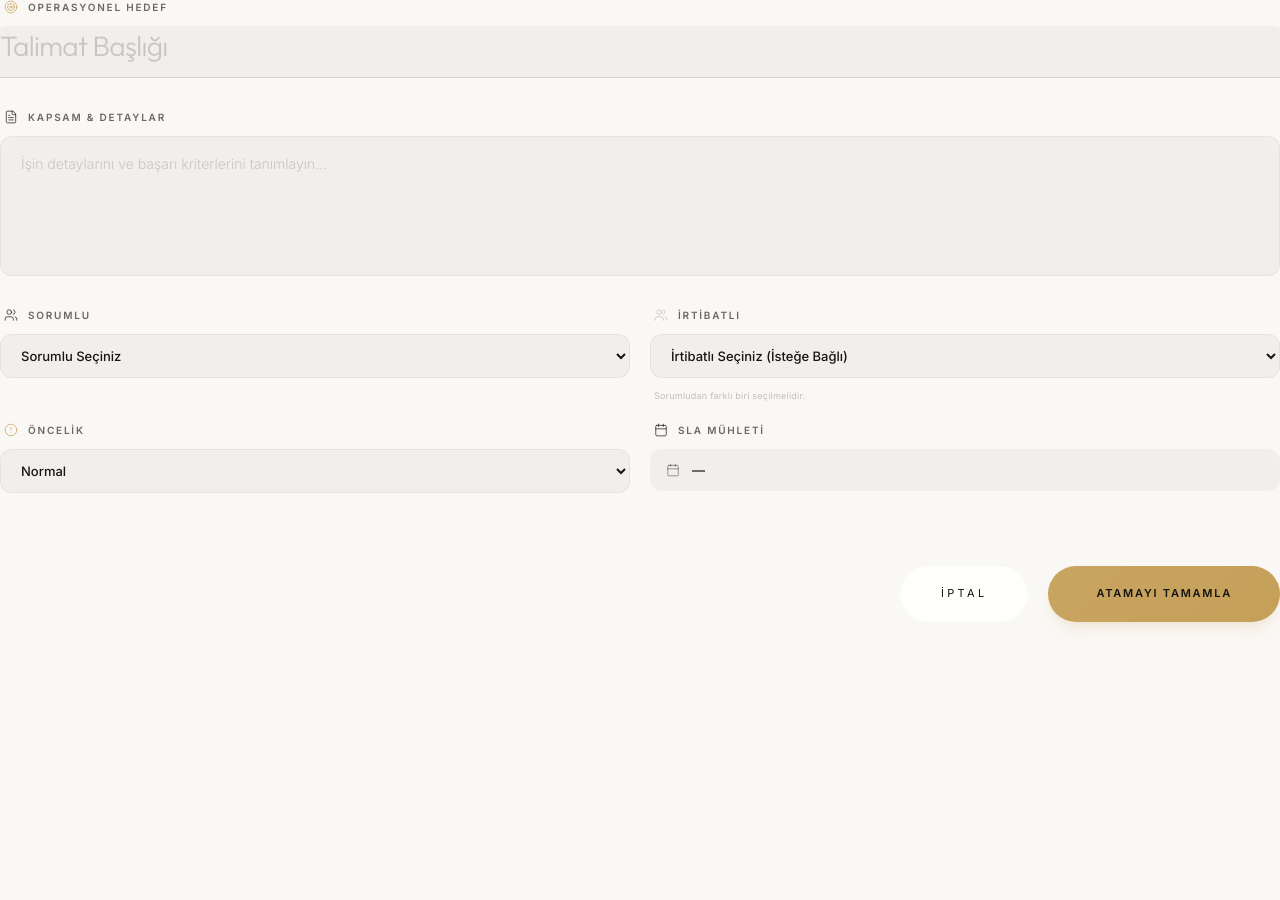
Test case: TaskFormModal › departman türetimi (P0-1) › sorumlunun departmanı yoksa (Admin'e atanan görev) birim alanı görünür ve zorunlu olur
The width and height of the screenshot is (1280, 900).
Type "Test Talimatı" into the field with placeholder "Talimat Başlığı".
click(640, 52); type("Test Talimatı")  # box x1=0 y1=26 x2=1279 y2=78
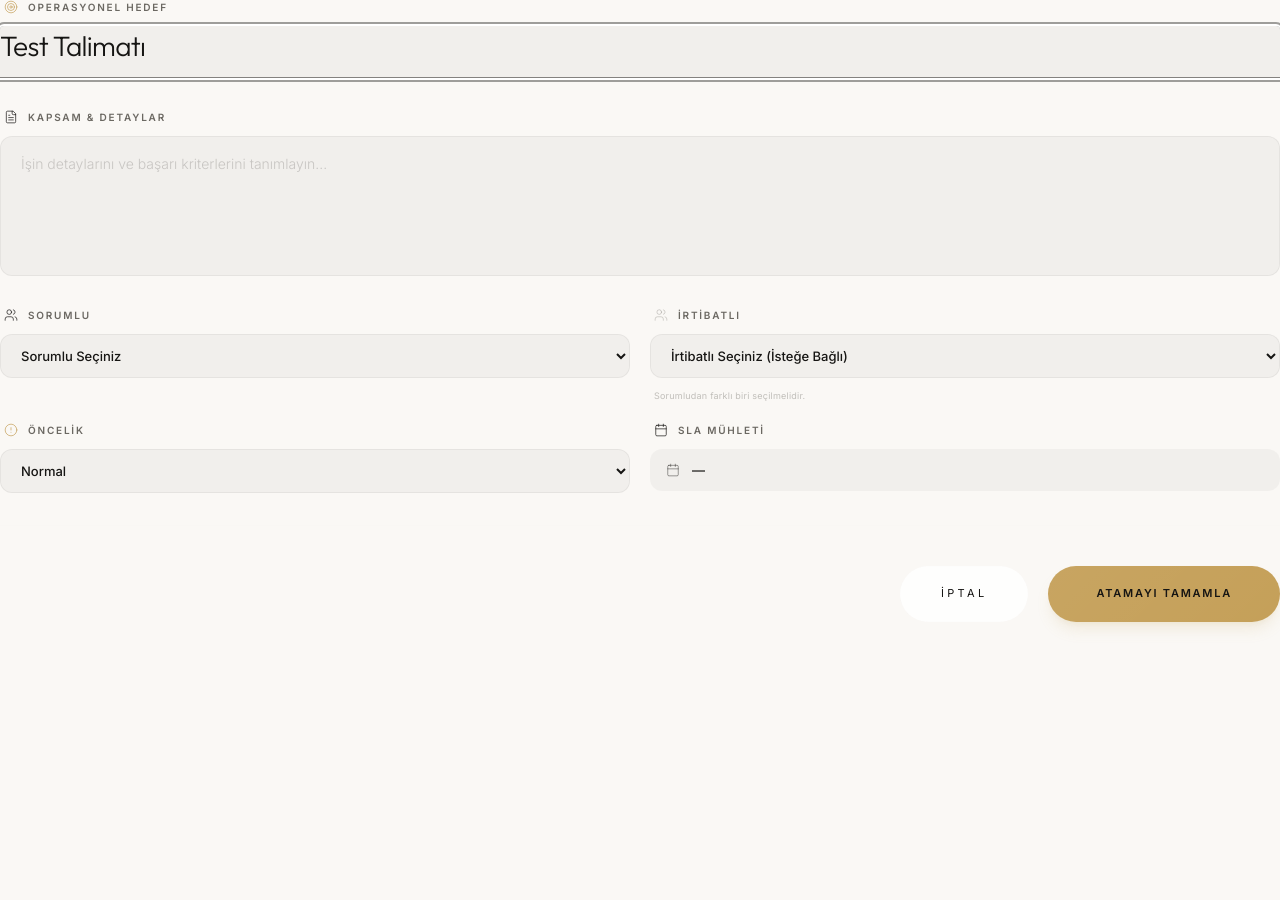
Type "Detaylı açıklama" into the text box with placeholder "İşin detaylarını ve başarı kriterlerini tanımlayın...".
click(640, 206); type("Detaylı açıklama")  # box x1=0 y1=136 x2=1279 y2=276
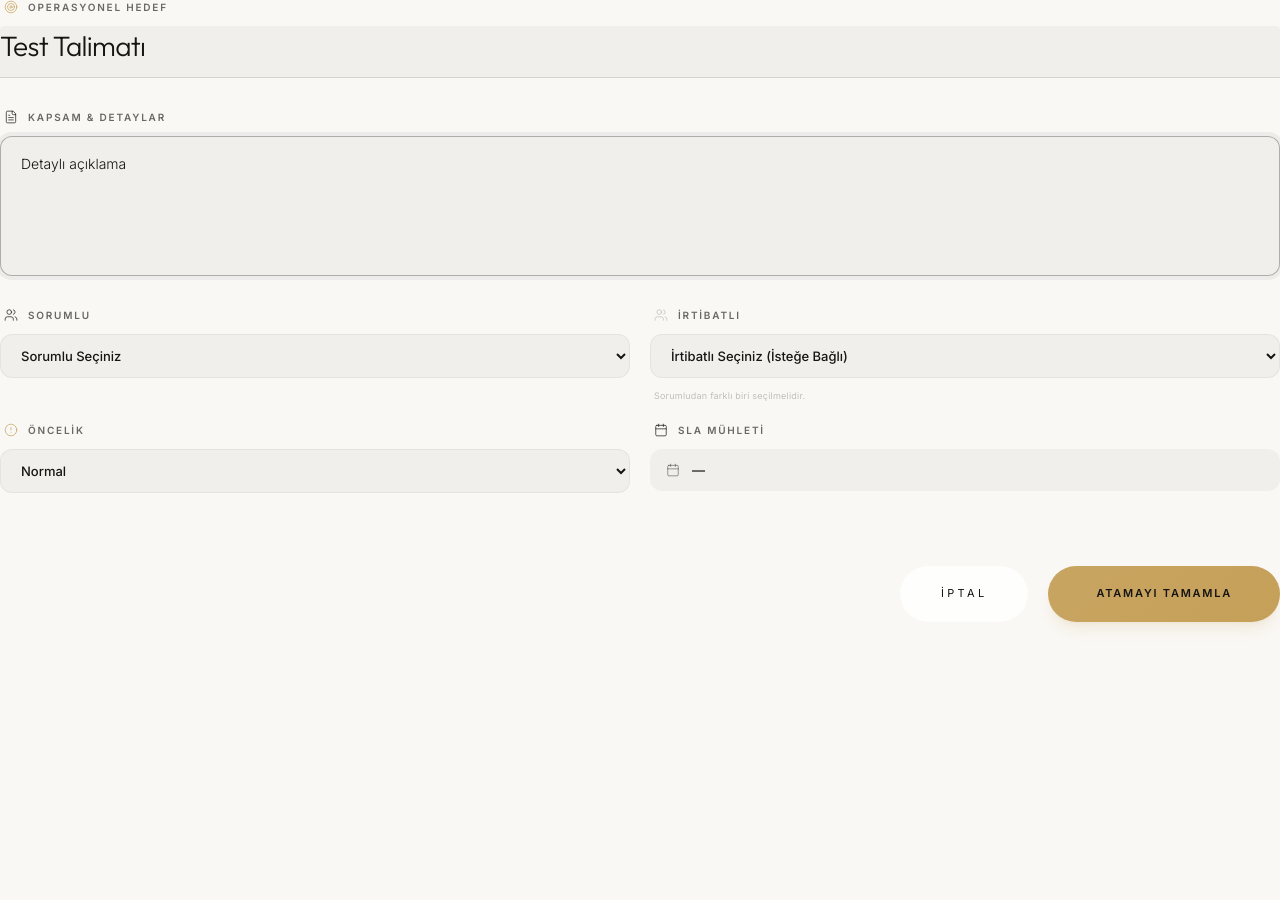
Select "Müftü Bey" in the dropdown labelled "Sorumlu" at (315, 356), box x1=0 y1=334 x2=630 y2=378
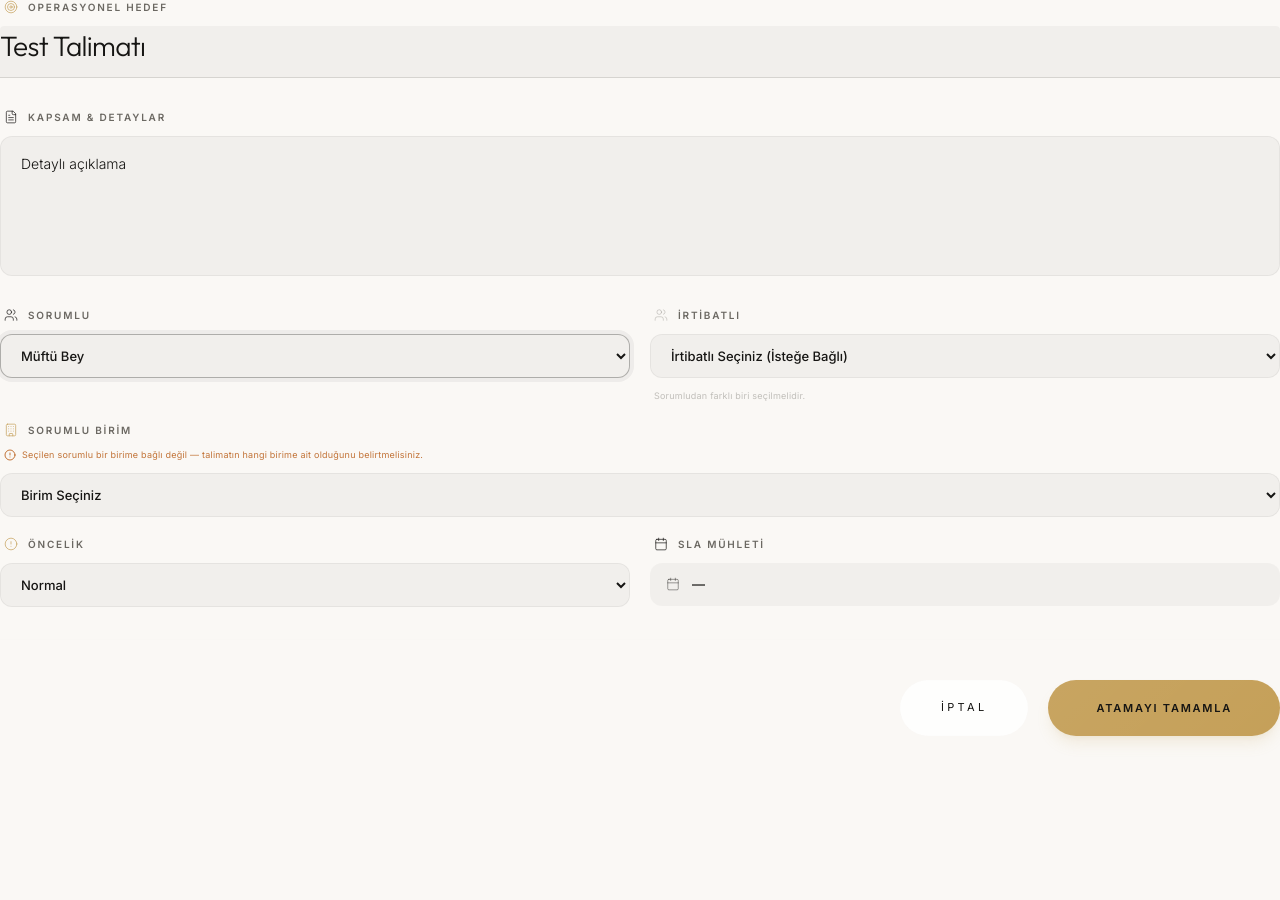
Click the button named "SLA mühleti".
click(673, 584)  # box x1=650 y1=563 x2=1279 y2=606
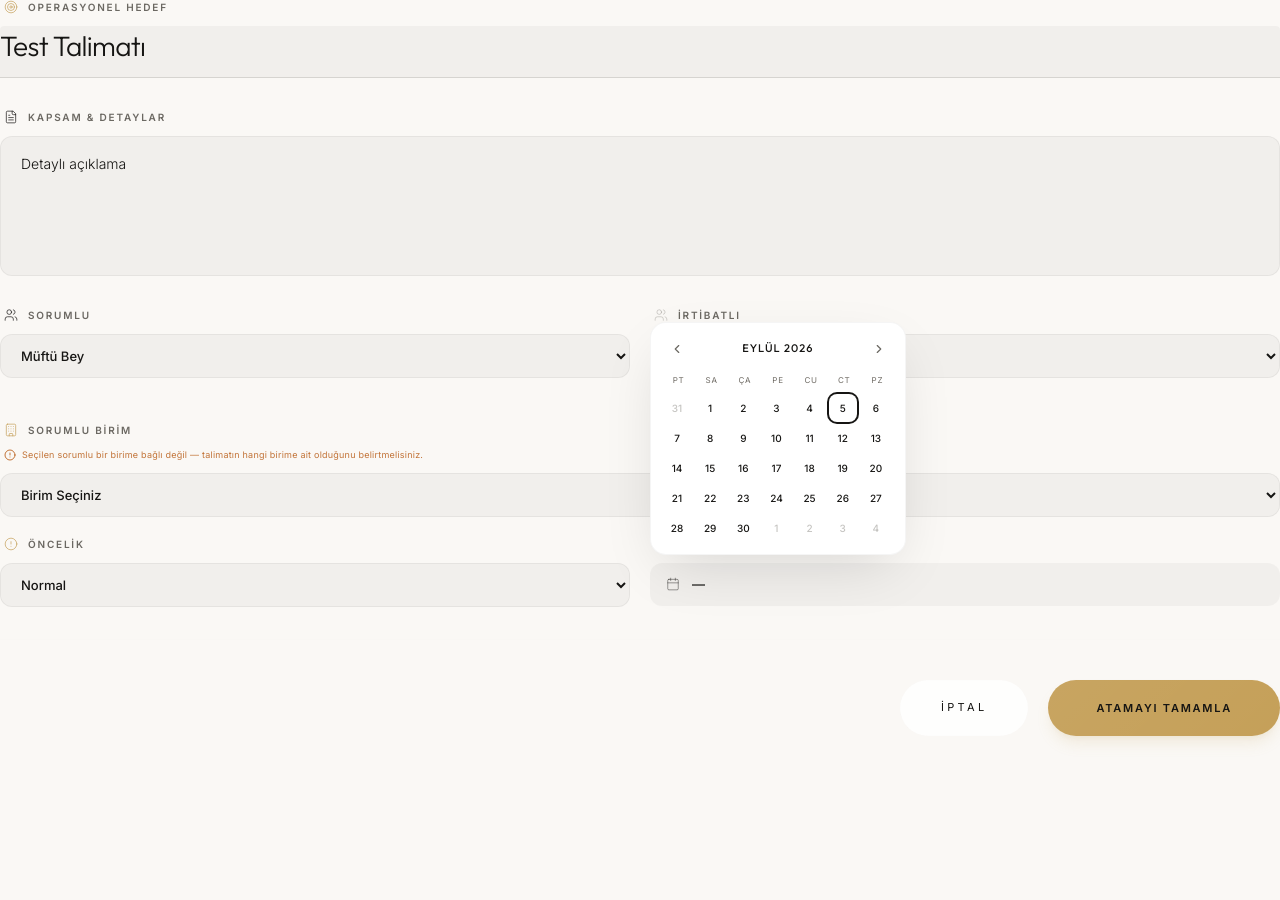
Click the button "5".
click(843, 408)  # box x1=829 y1=394 x2=857 y2=422
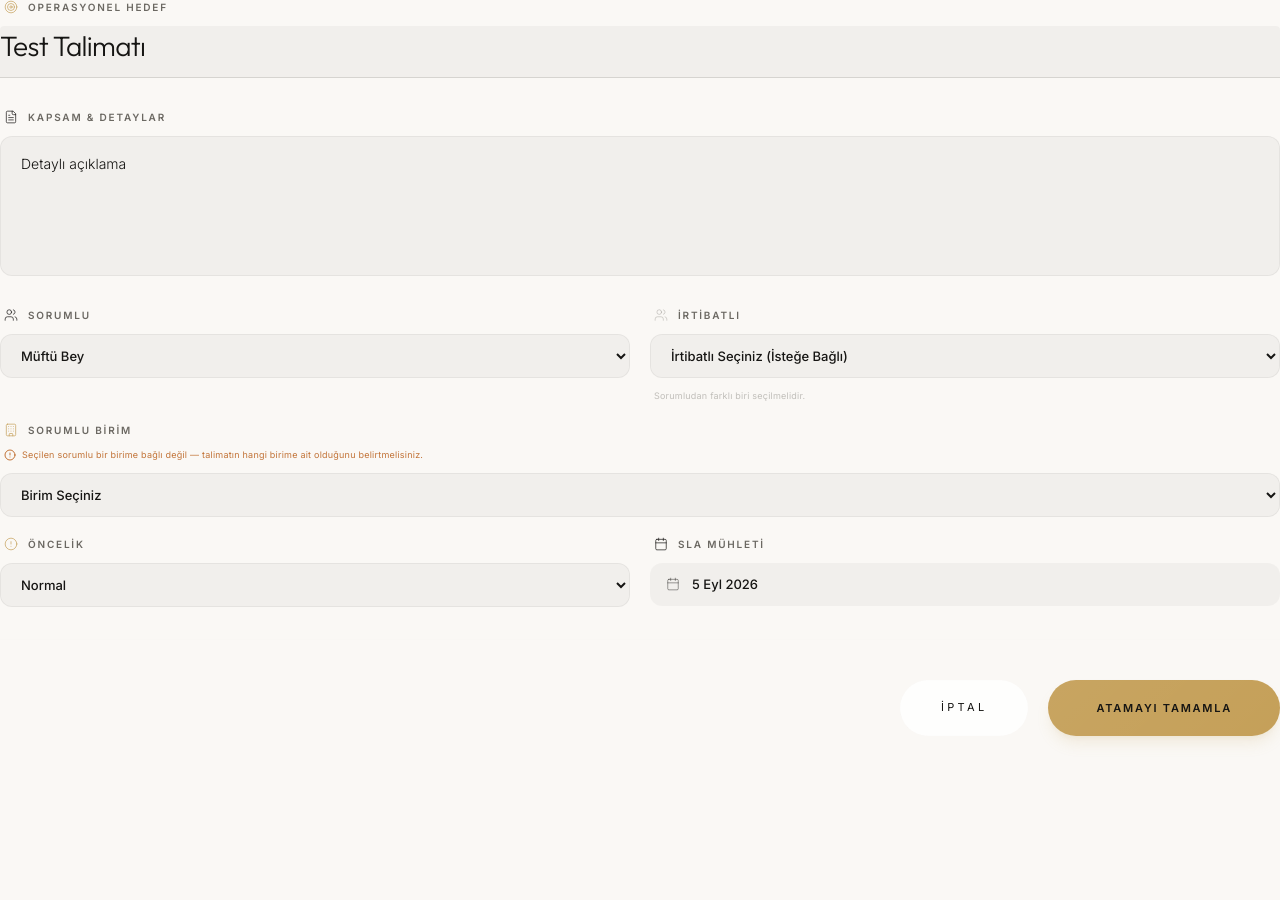
Click the button "ATAMAYI TAMAMLA".
click(1164, 708)  # box x1=1048 y1=680 x2=1279 y2=736
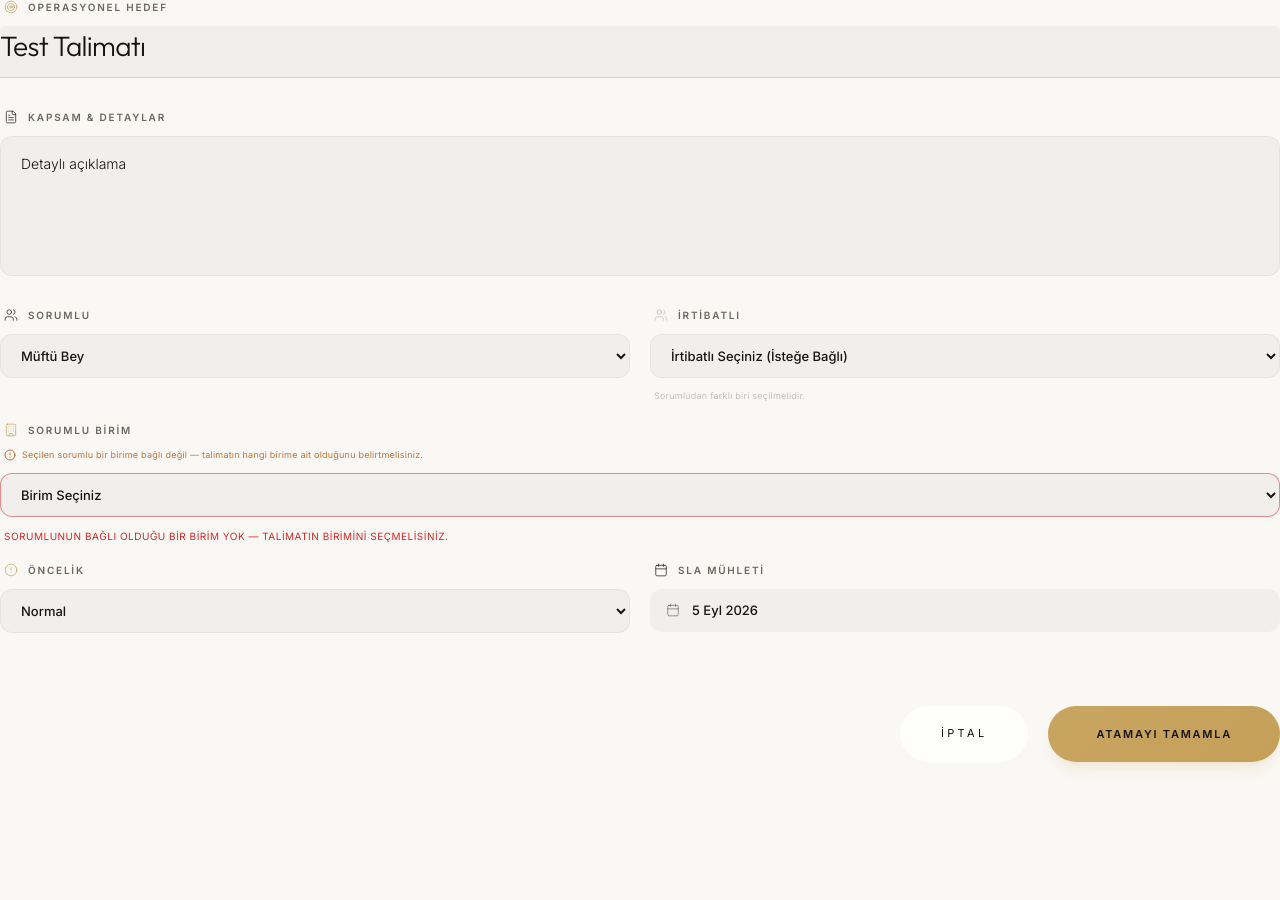
Now the dropdown labelled "Sorumlu Birim" is shown, box x1=0 y1=473 x2=1279 y2=517
Now the text "talimatın birimini seçmelisiniz" is shown, box x1=4 y1=530 x2=448 y2=542
